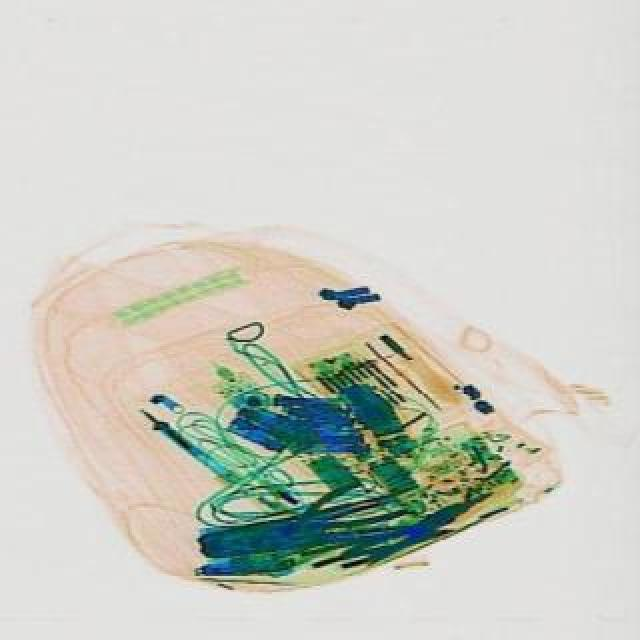wrench: (222, 468, 410, 564)
